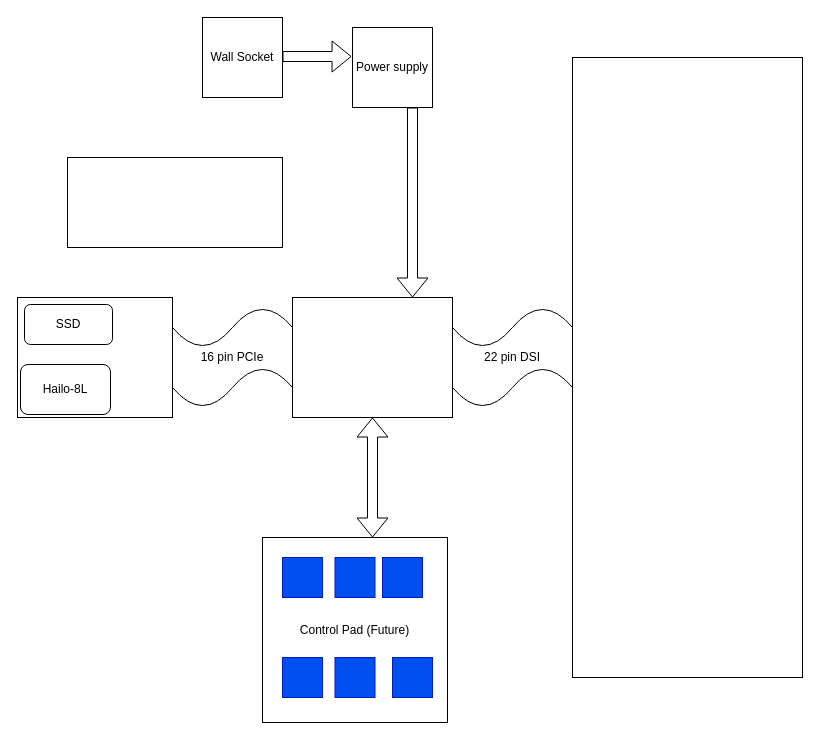
Some shapes in this 820 by 740 pixel diagram are drawn without their labels. Here are the shapes that lost their labels. From the top down, the box of each, then its label:
(66, 156, 282, 248): NOT TO SCALE
(16, 296, 172, 418): Base Duo
(292, 296, 452, 418): Raspberry Pi 5
(572, 56, 802, 678): 5 inch screen
